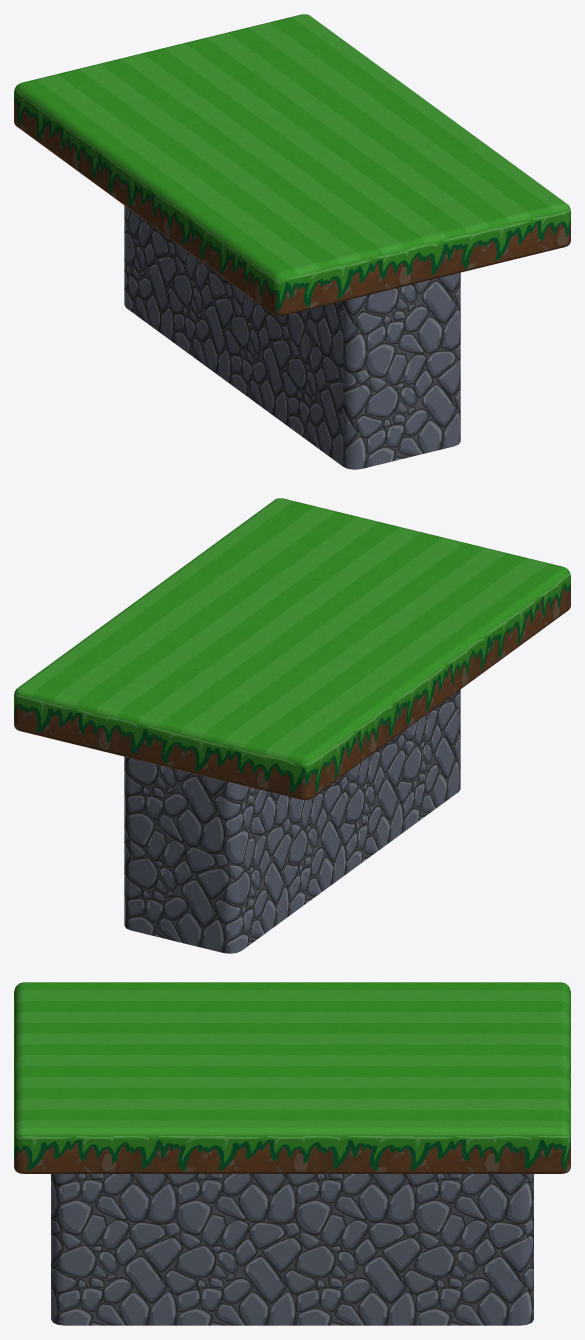
The model's file is Platform_2.fbx.
3 views of the same model, one above another, from view 1: azimuth 30°, elevation 25°; view 2: azimuth 150°, elevation 25°; view 3: azimuth 270°, elevation 25° (orthographic). The views are drawn at different scales.
Parts seen in each view (by area): view 1: polySurface13; view 2: polySurface13; view 3: polySurface13.
Part boxes in pixels (x1,y1,x2,y2): polySurface13: (14,14,570,469); polySurface13: (14,498,570,953); polySurface13: (14,982,570,1325).
Bounding box in the file's own units: 19.39 × 14.33 × 30.
Materials: 4 (4 with a texture image).
